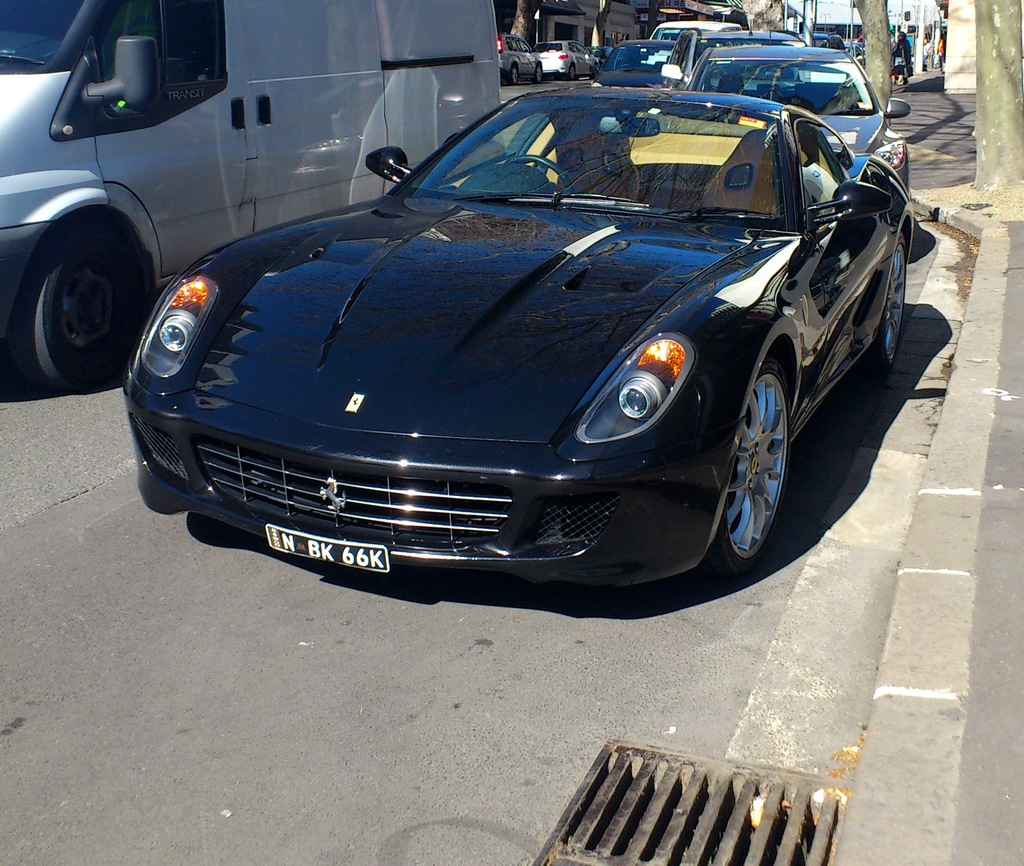Car: (121, 18, 912, 586)
